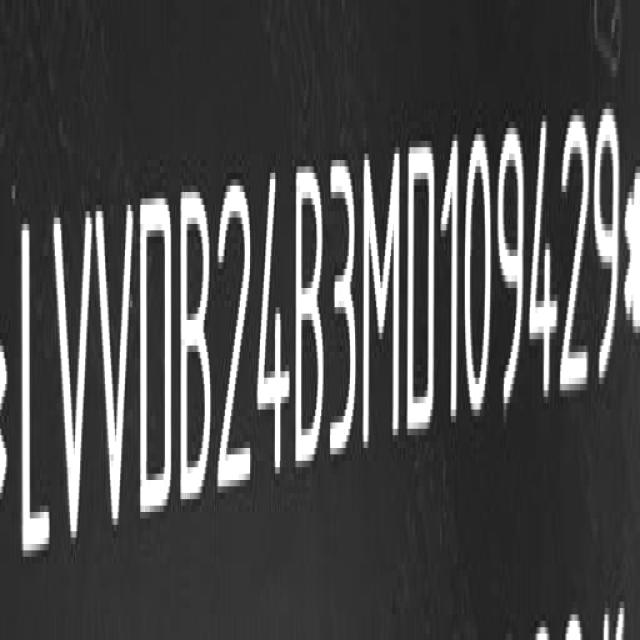0: (463, 128, 493, 429)
1: (439, 116, 461, 446)
2: (213, 173, 254, 524), (559, 107, 592, 403)
3: (328, 144, 358, 464)
4: (254, 168, 290, 479), (528, 112, 560, 398)
9: (496, 121, 527, 417), (593, 109, 621, 394)
B: (178, 188, 214, 514), (294, 154, 326, 469)
D: (136, 192, 174, 521), (405, 140, 437, 441)
L: (20, 204, 53, 559)
M: (360, 137, 402, 450)
V: (52, 197, 93, 552), (93, 206, 136, 534)
